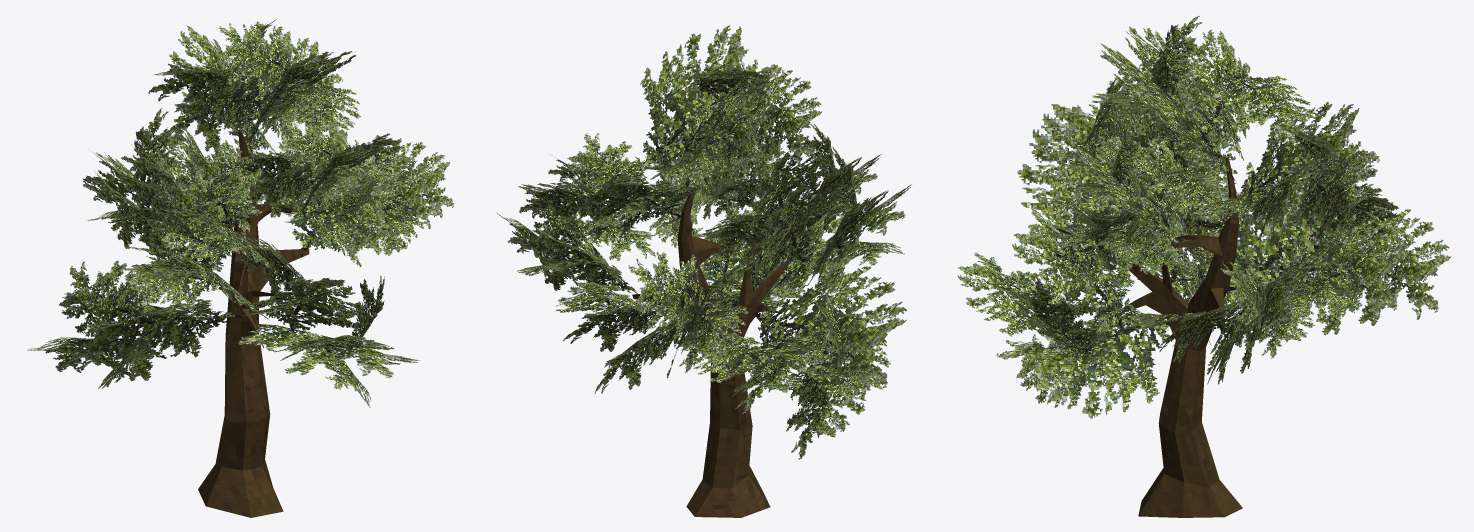
File: plant2.glb
3 renders of one model, left to right at view 1: azimuth 30°, elevation 25°; view 2: azimuth 150°, elevation 25°; view 3: azimuth 270°, elevation 25°, orthographic. The views are drawn at different scales.
Parts seen in each view (by area): view 1: Plane.001; view 2: Plane.001; view 3: Plane.001.
Boxes of the visible parts, left/top/right/bottom form: Plane.001: left=27, top=19, right=454, bottom=517; Plane.001: left=497, top=25, right=911, bottom=517; Plane.001: left=957, top=15, right=1451, bottom=517.
Size of the model in its own units: 15.52 by 16.83 by 16.
1 material, 1 textured.
